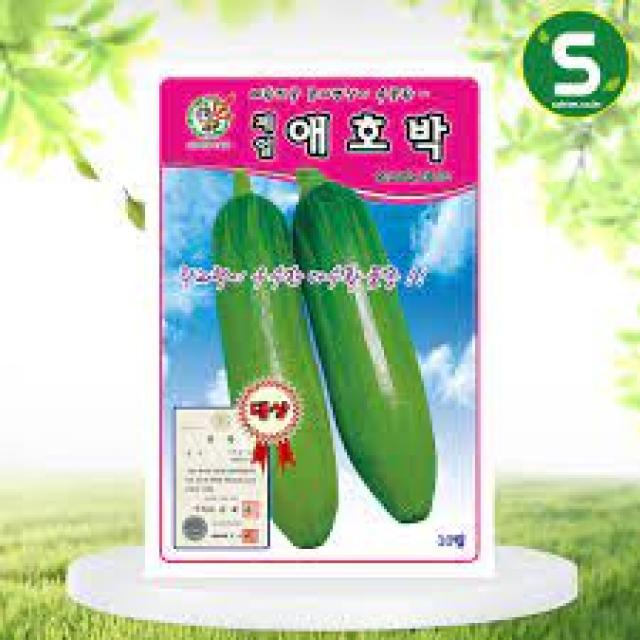Yogurt cup: (292, 167, 438, 524)
